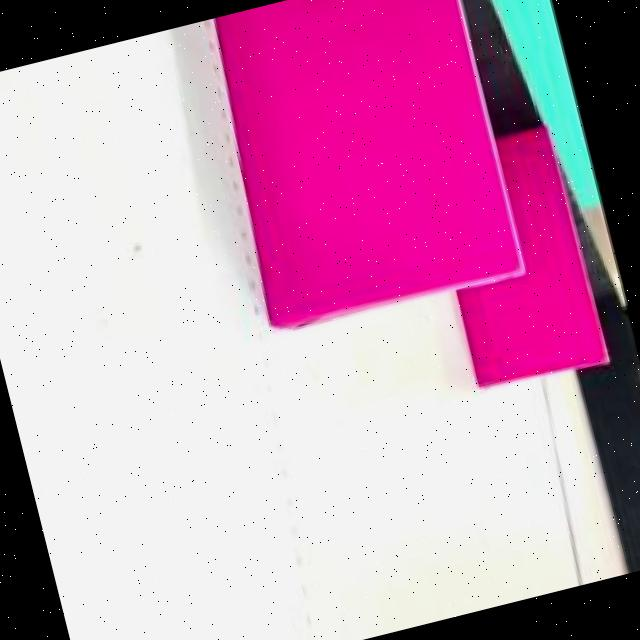xparking: (189, 0, 521, 327), (454, 262, 604, 388)
